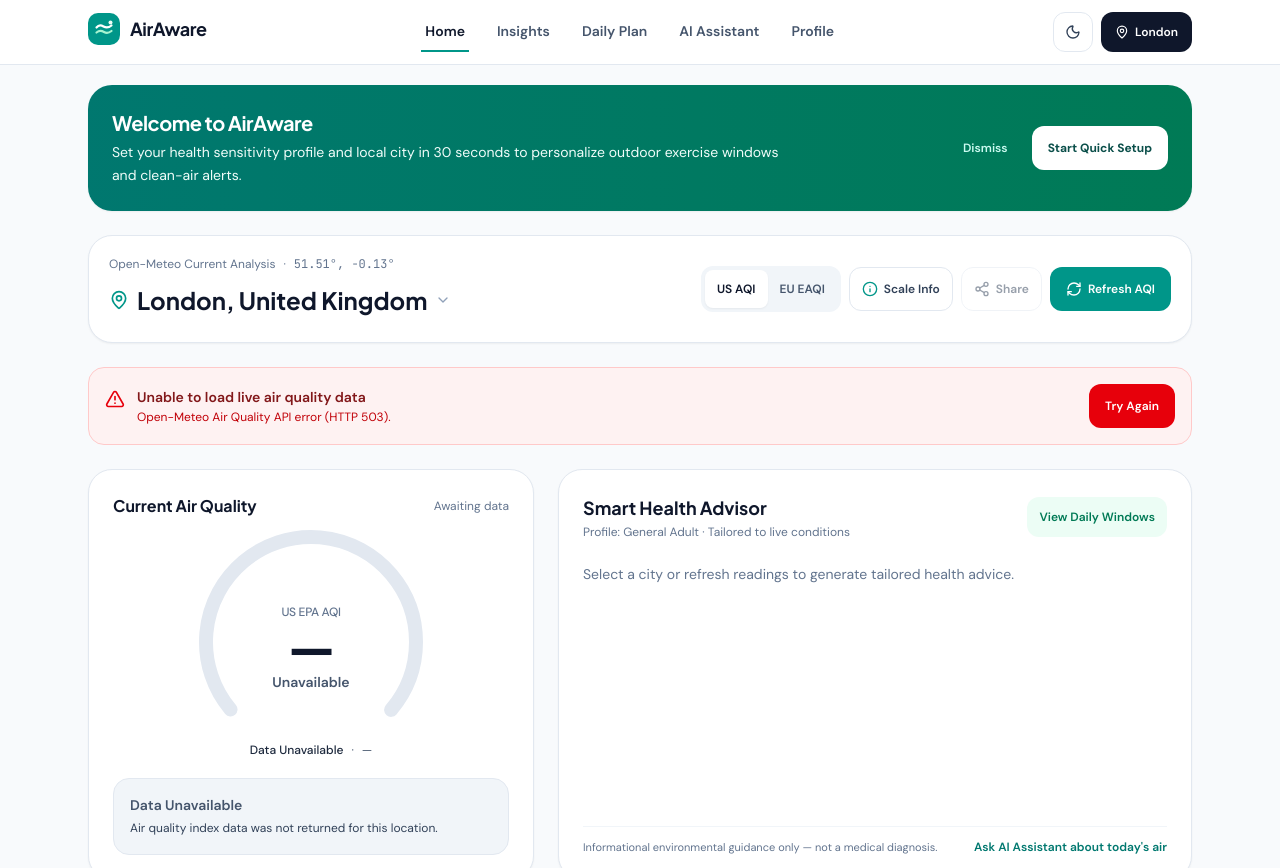
Test: AirAware Application Workflows › displays API error state and recovers when Try Again is clicked
Expected: the message shows "Unable to load live air quality data", [137,388,366,406]
Click the button "Try Again" at (1132, 406), box [1089,384,1175,428]
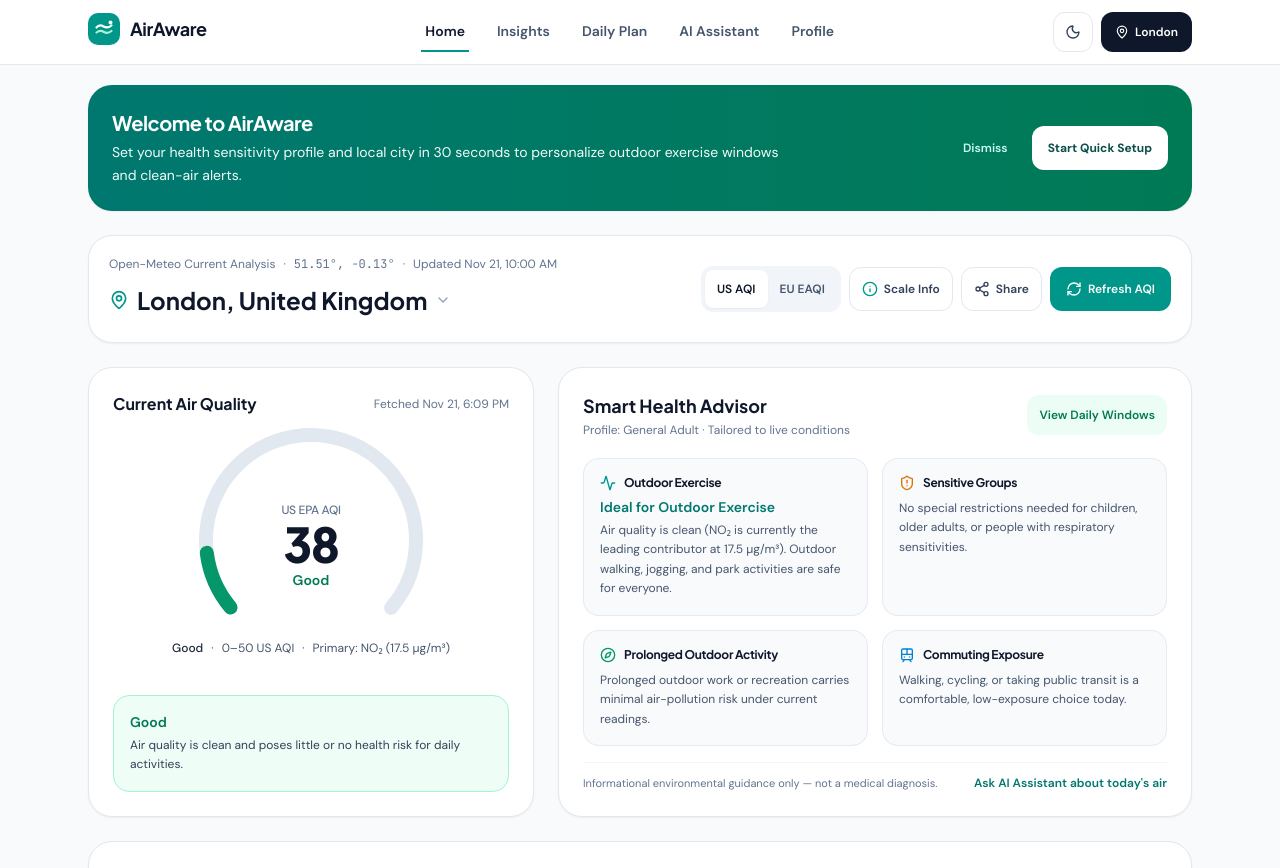
Expected: the text "38" is shown, [283,520,339,568]
Expected: the text "Unable to load live air quality data" is gone
